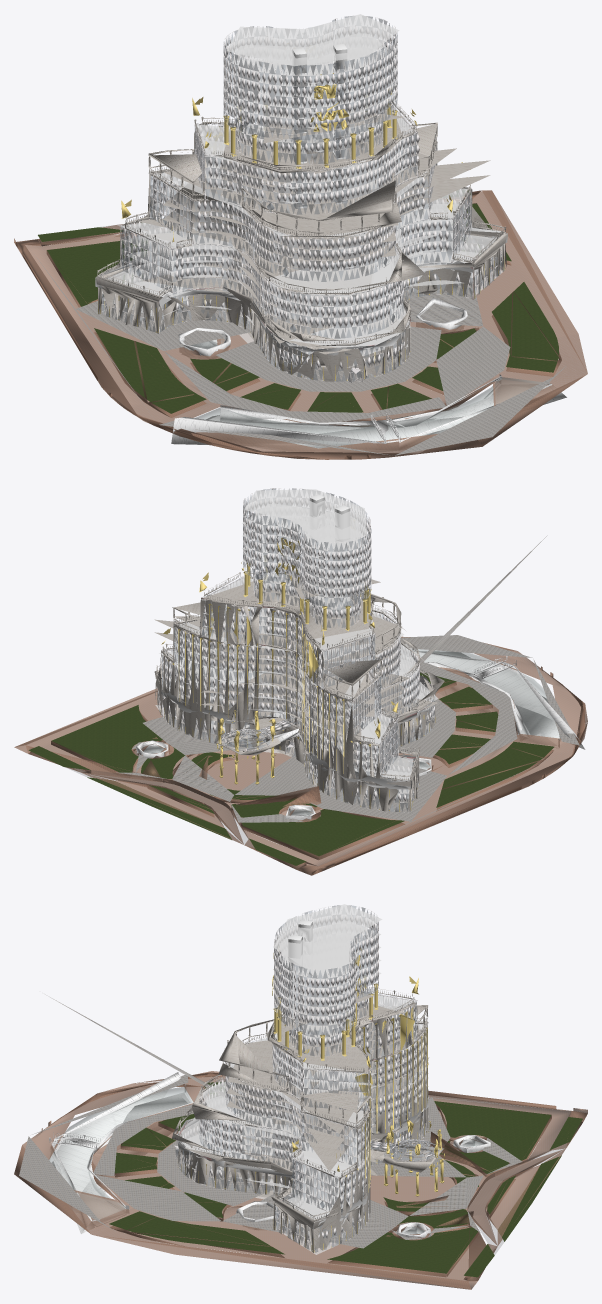
Rendered from casino_tower_lod1.glb.
The picture shows the model from 3 angles, top to bottom: view 1: azimuth 30°, elevation 25°; view 2: azimuth 150°, elevation 25°; view 3: azimuth 270°, elevation 25°; orthographic projection. The views are drawn at different scales.
Parts seen in each view (by area): view 1: casino_tower; view 2: casino_tower; view 3: casino_tower.
Part boxes in pixels (<box>): casino_tower: <box>14,14,587,459</box>; casino_tower: <box>14,488,587,875</box>; casino_tower: <box>14,904,587,1289</box>.
Bounding box in the file's own units: 117 × 64.37 × 132.
Materials: 19 (9 with a texture image).
